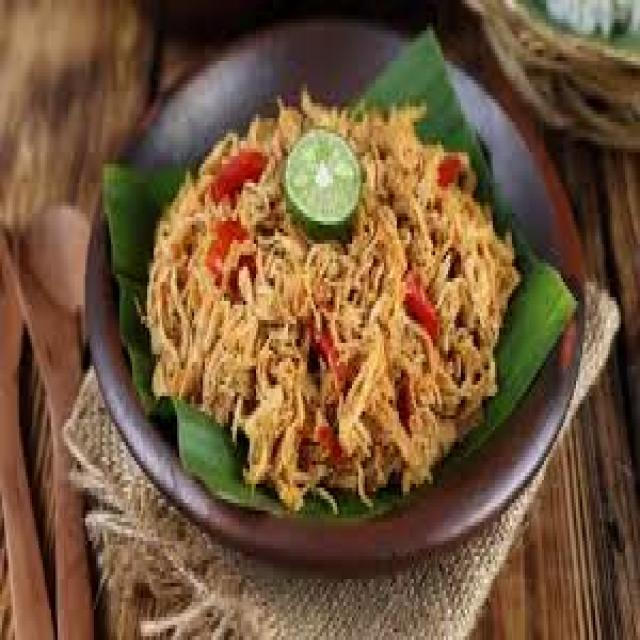ayam_suwir: (144, 94, 516, 497)
